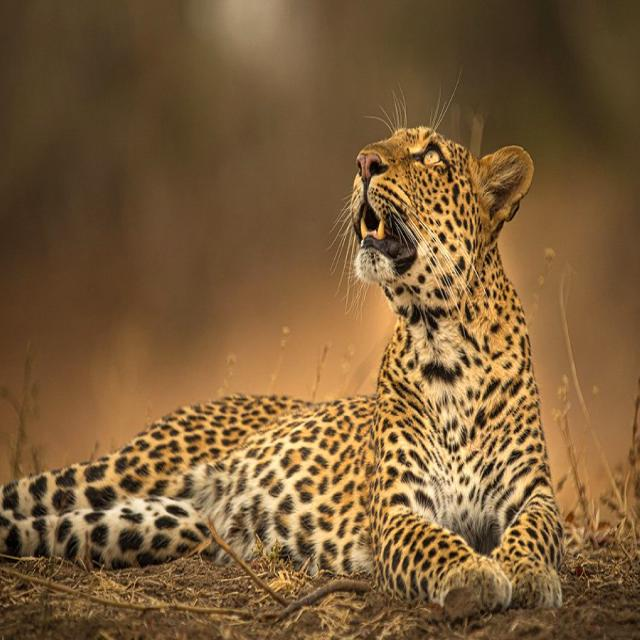leopard: (1, 127, 562, 608)
